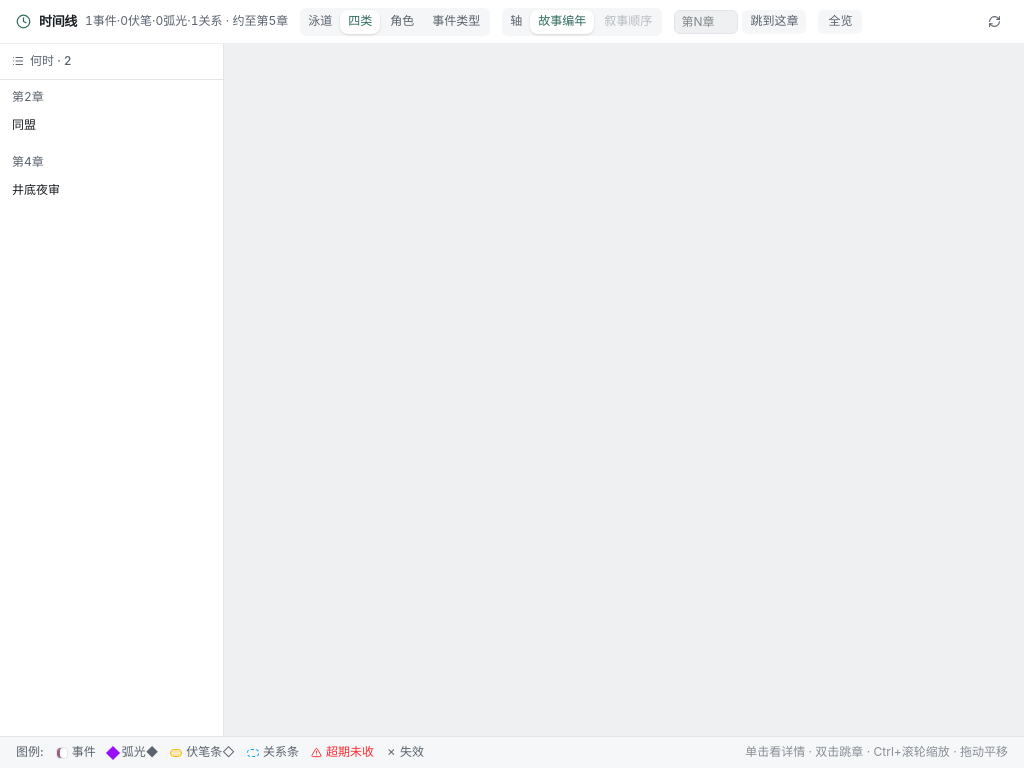
Test case: 横切视图真实组件对象回流 › 列表点选留在时间线并开抽屉，轴仍在
The image size is (1024, 768).
Click the button "井底夜审".
click(112, 191)  # box [0,175,223,206]
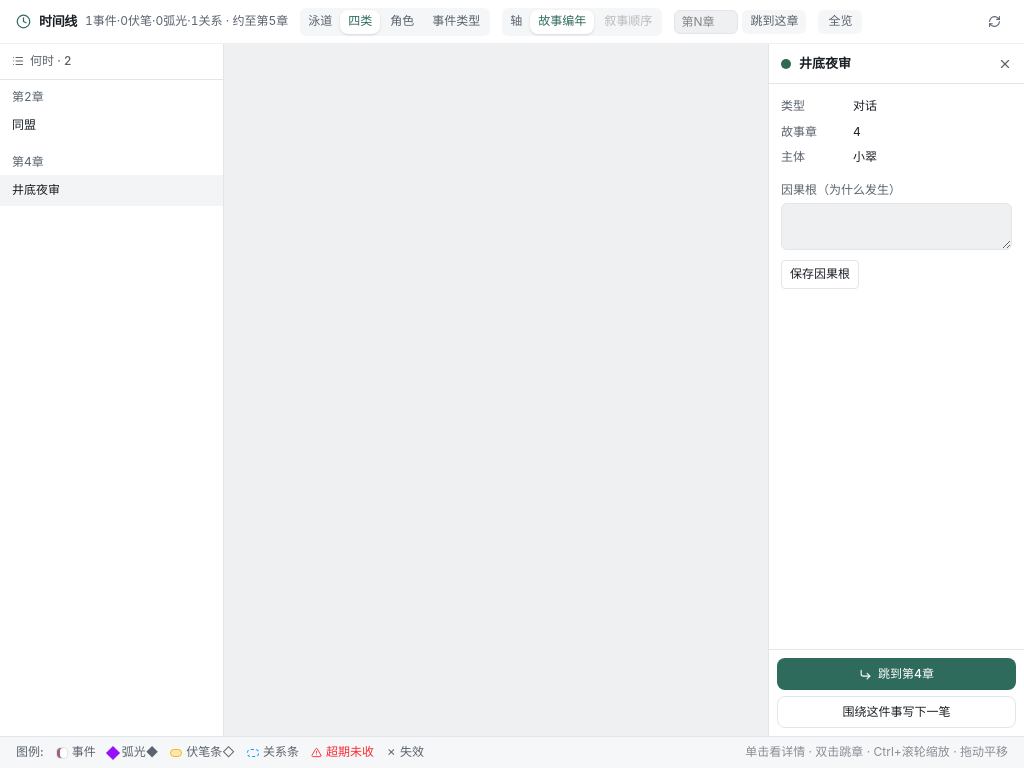
Expected: the element with test id "timeline-canvas" is shown, [224,44,768,736]
Expected: the element with test id "timeline-detail" is shown, [768,44,1023,736]
Expected: the button with test id "timeline-next-stroke" is shown, [777,696,1016,728]
